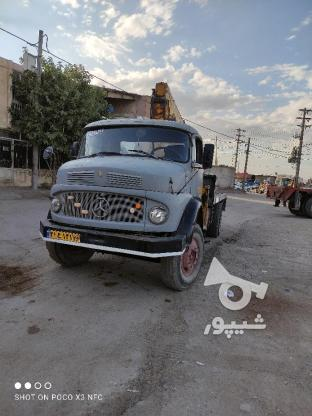car: (44, 230, 82, 243)
